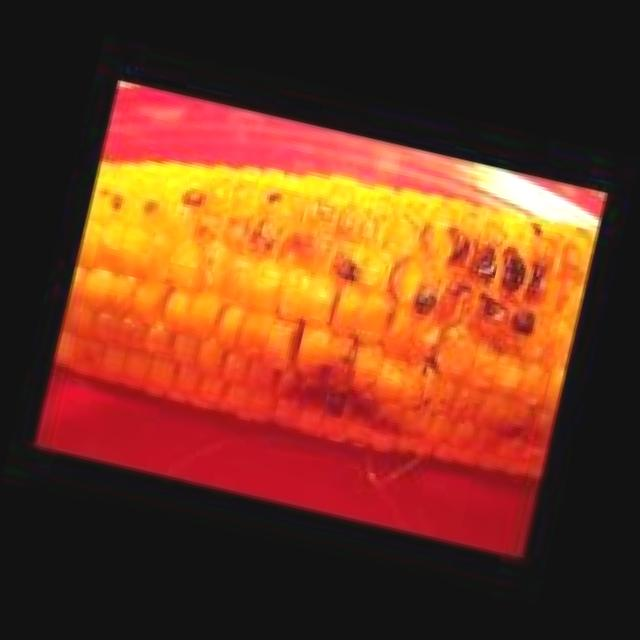corn: (8, 79, 606, 565)
